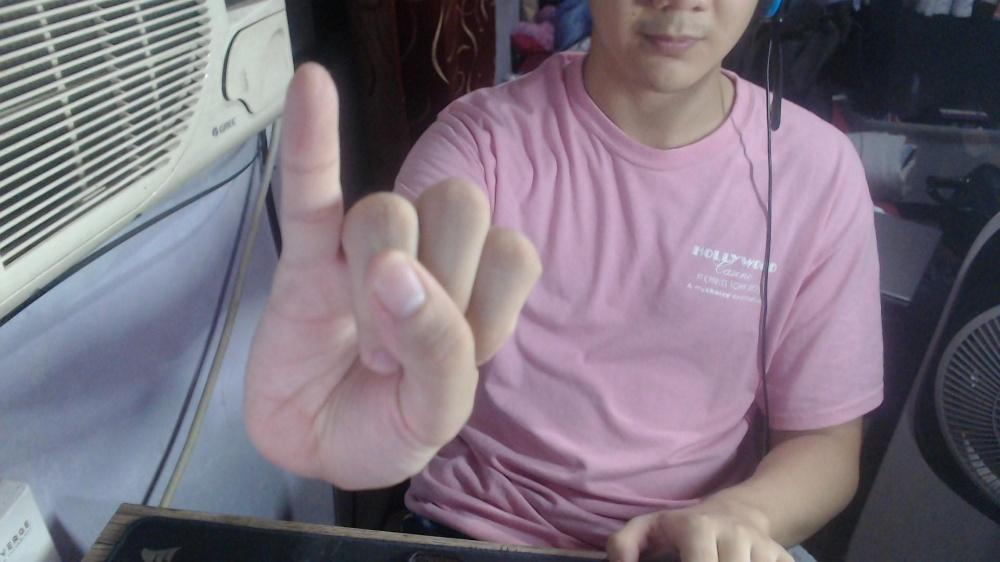i: (237, 56, 546, 492)
